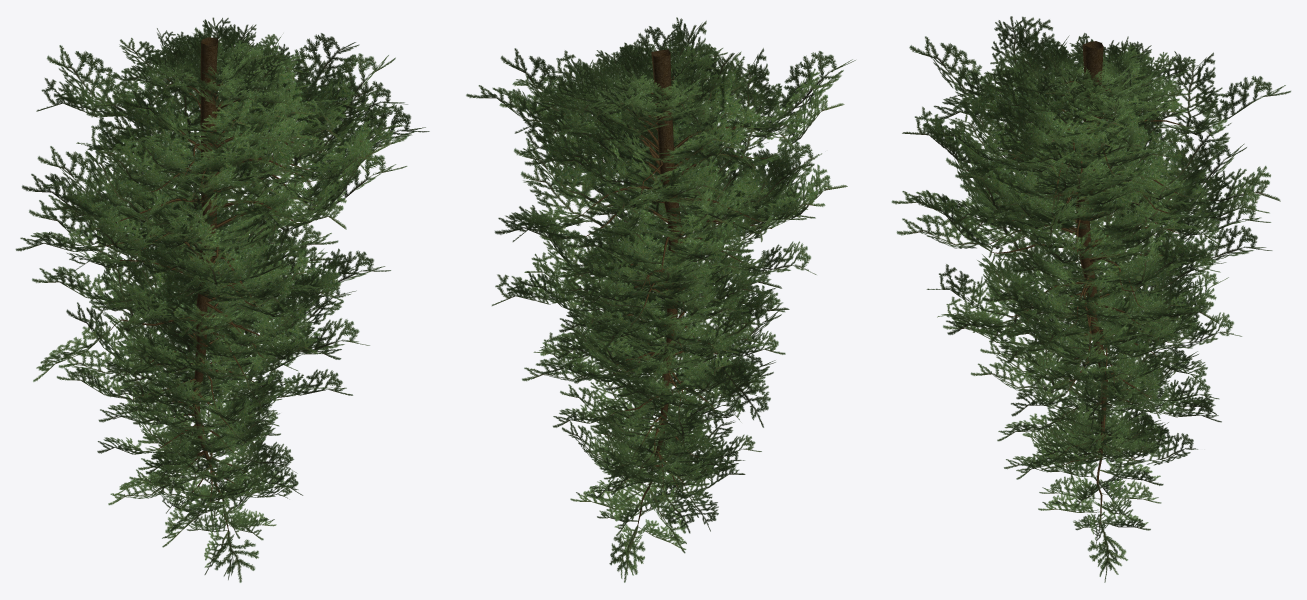
The model's file is birch.glb.
The picture shows the model from 3 angles, left to right: view 1: azimuth 30°, elevation 25°; view 2: azimuth 150°, elevation 25°; view 3: azimuth 270°, elevation 25°; orthographic projection. The views are drawn at different scales.
Parts seen in each view (by area): view 1: Christmas tree_4_LOD0; view 2: Christmas tree_4_LOD0; view 3: Christmas tree_4_LOD0.
Boxes of the visible parts, bbox=[...] form: Christmas tree_4_LOD0: bbox=[15, 17, 429, 582]; Christmas tree_4_LOD0: bbox=[466, 17, 855, 582]; Christmas tree_4_LOD0: bbox=[891, 16, 1290, 582].
Size of the model in its own units: 3.15 by 4.42 by 3.09.
2 materials, 2 textured.
